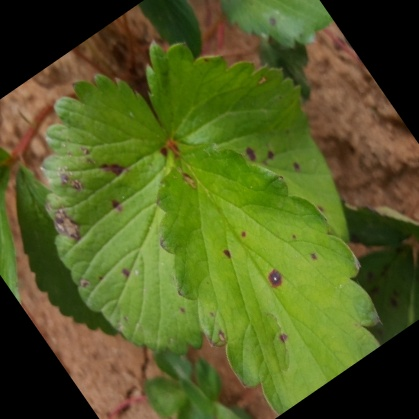Leaf_Spot: (169, 37, 356, 317), (132, 138, 304, 418), (53, 28, 218, 319)
